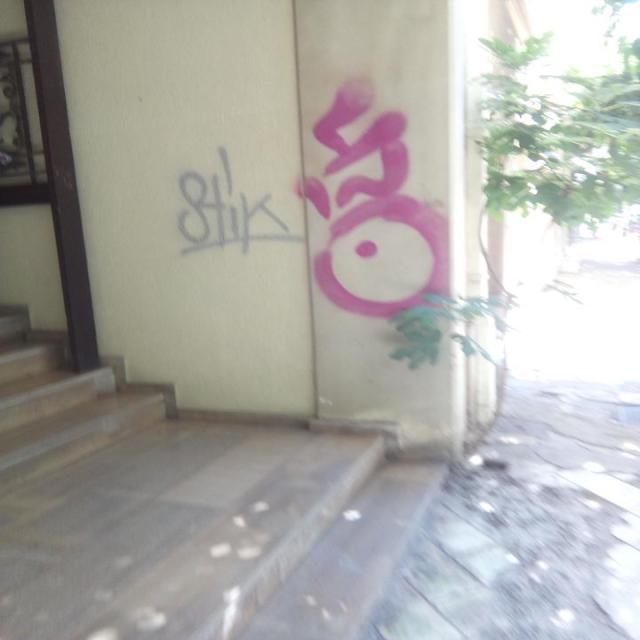nonspitting: (300, 75, 450, 322), (174, 142, 301, 254)
